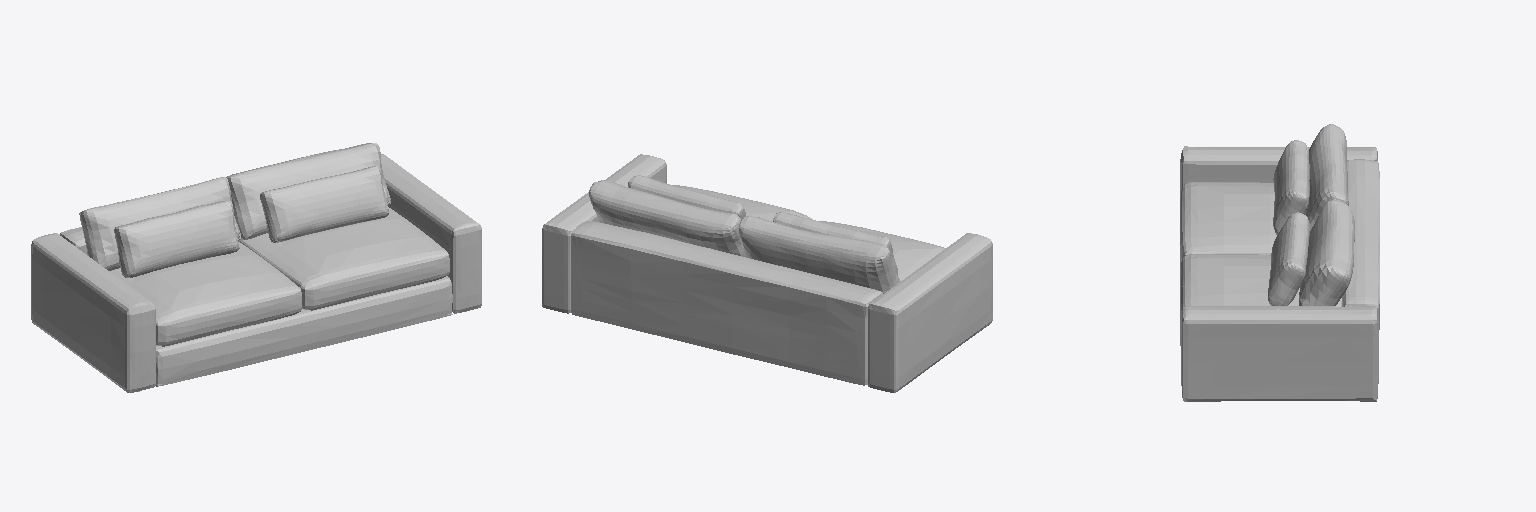
File: mirabel_98_pewter.obj
3 views of the same model, side by side, from view 1: azimuth 30°, elevation 25°; view 2: azimuth 150°, elevation 25°; view 3: azimuth 270°, elevation 25° (orthographic).
Visible parts, largest first — view 1: mirabel_98_pewter; view 2: mirabel_98_pewter; view 3: mirabel_98_pewter.
Part boxes in pixels (left/top/right/bottom): mirabel_98_pewter: left=31, top=143, right=481, bottom=392; mirabel_98_pewter: left=542, top=154, right=992, bottom=392; mirabel_98_pewter: left=1180, top=124, right=1379, bottom=401.
Bounding box in the file's own units: 7.12 × 2.39 × 3.47.